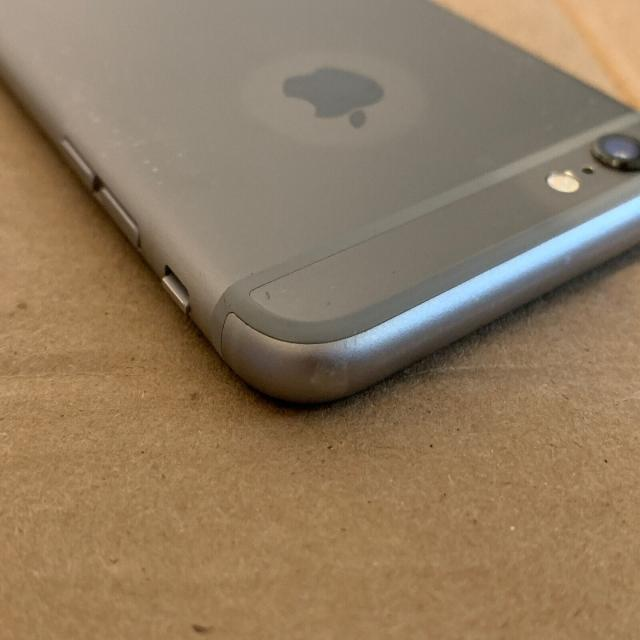Dents: (147, 131, 195, 195), (321, 294, 345, 321), (258, 288, 278, 305)
